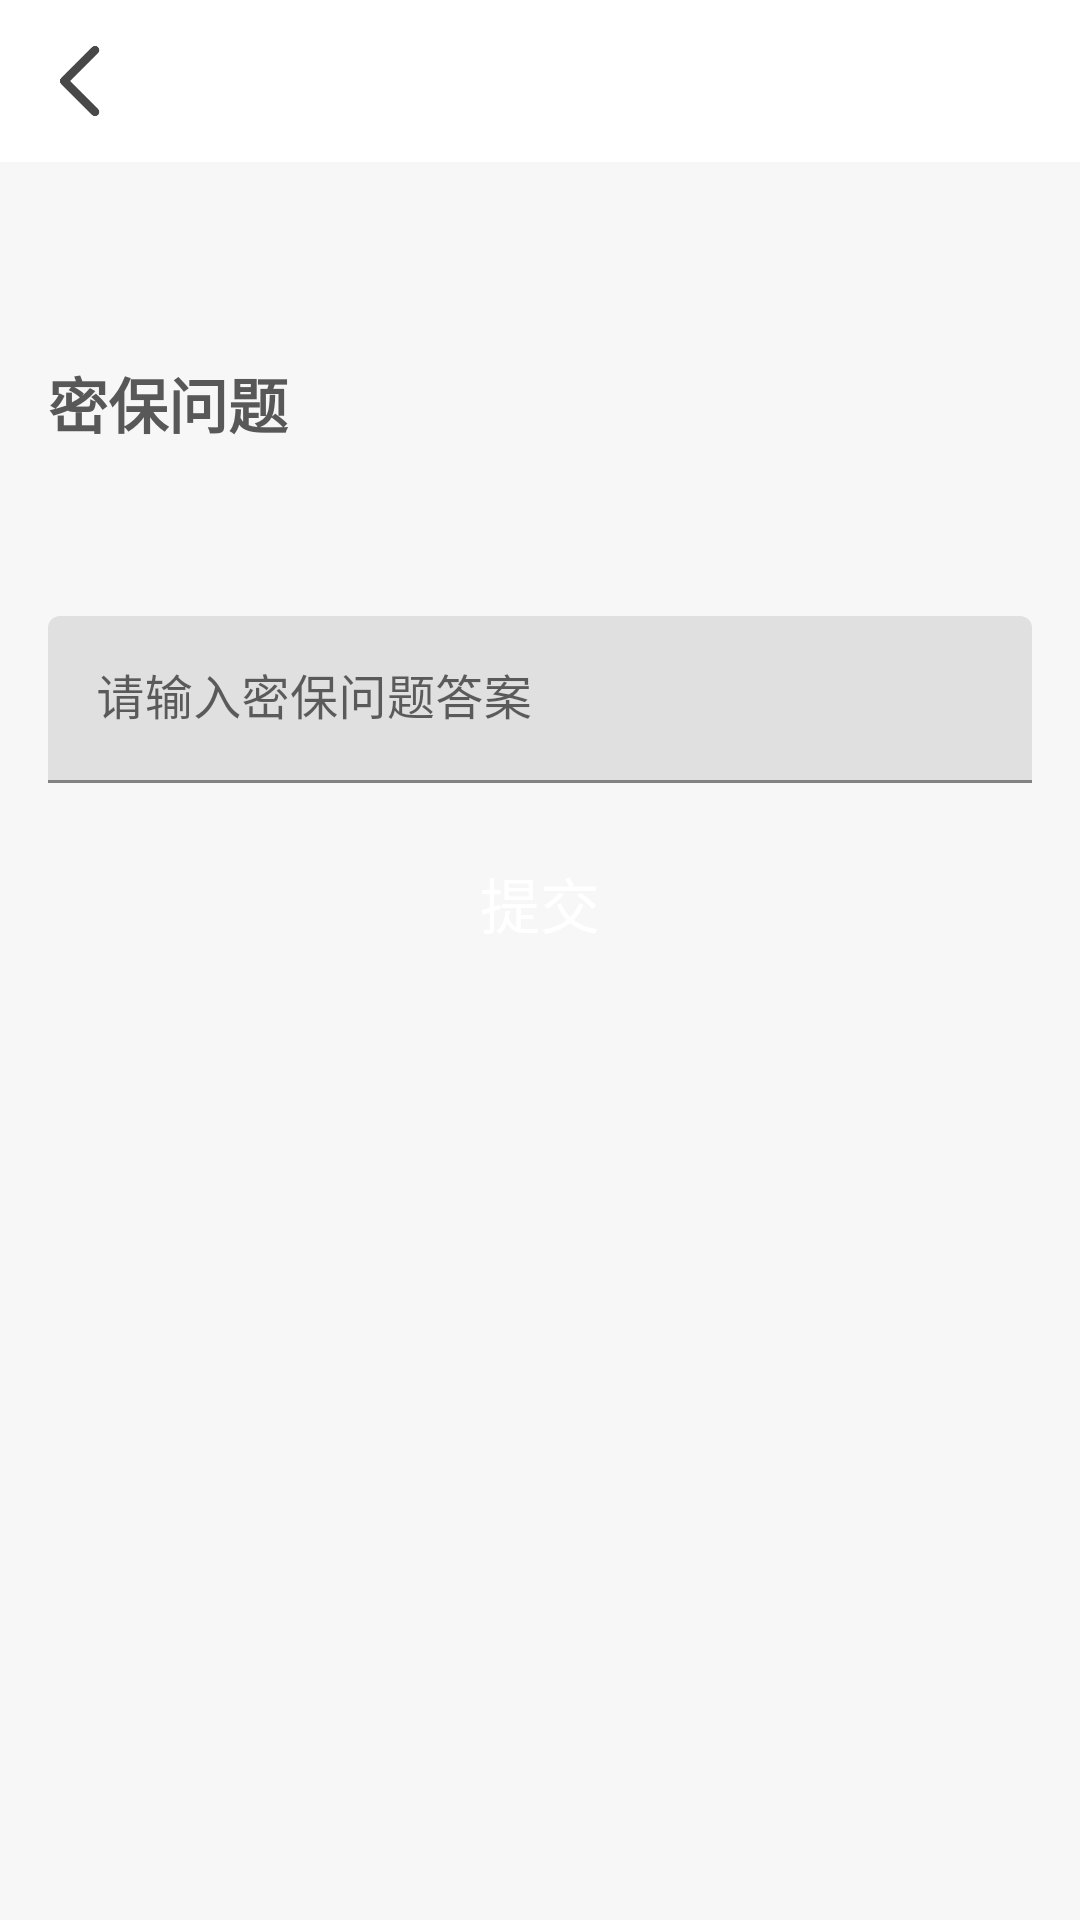

Icon bounding boxes for this 1080px×1920px phone screenshot, format (x1, y1, x2, y2):
back: (60, 46, 100, 116)
